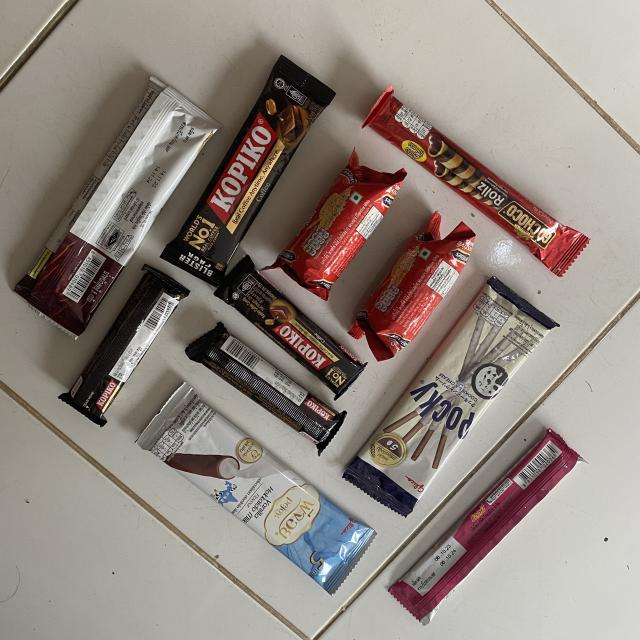plastik: (15, 78, 220, 336), (344, 276, 558, 516), (138, 384, 374, 592), (362, 86, 589, 276), (161, 55, 335, 285), (389, 429, 582, 625), (185, 322, 346, 455), (215, 256, 364, 399), (59, 265, 190, 426), (271, 150, 406, 300), (350, 212, 475, 360)
